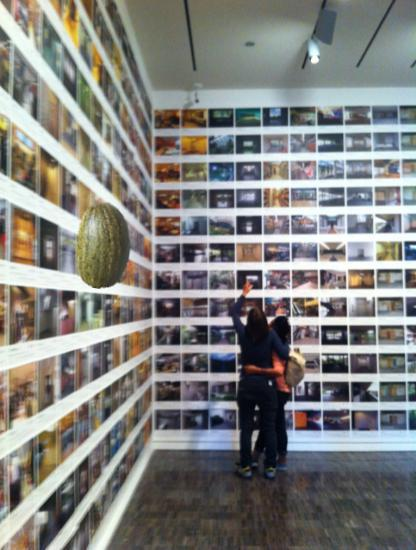Melon: (60, 202, 148, 290)
